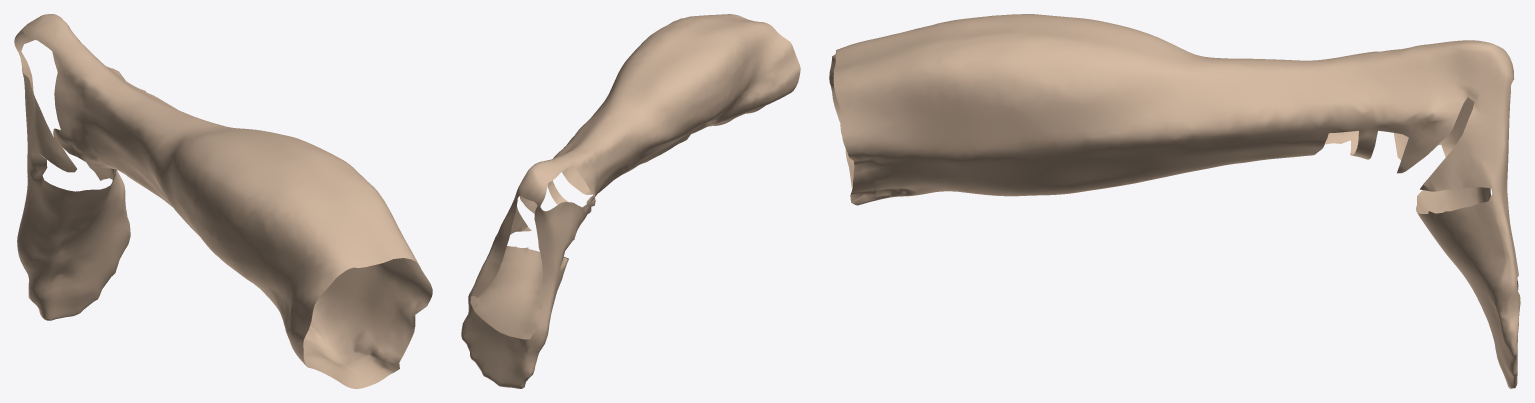
3 views of the same model, side by side, from view 1: azimuth 30°, elevation 25°; view 2: azimuth 150°, elevation 25°; view 3: azimuth 270°, elevation 25° (orthographic). The views are drawn at different scales.
Parts seen in each view (by area): view 1: 左侧小腿筋膜; view 2: 左侧小腿筋膜; view 3: 左侧小腿筋膜.
Part boxes in pixels (box(x1,y1,x2,y2)): 左侧小腿筋膜: box(14, 14, 432, 388); 左侧小腿筋膜: box(461, 14, 800, 388); 左侧小腿筋膜: box(829, 14, 1520, 388).
Size of the model in its own units: 0.1782 by 0.3603 by 0.6512.
